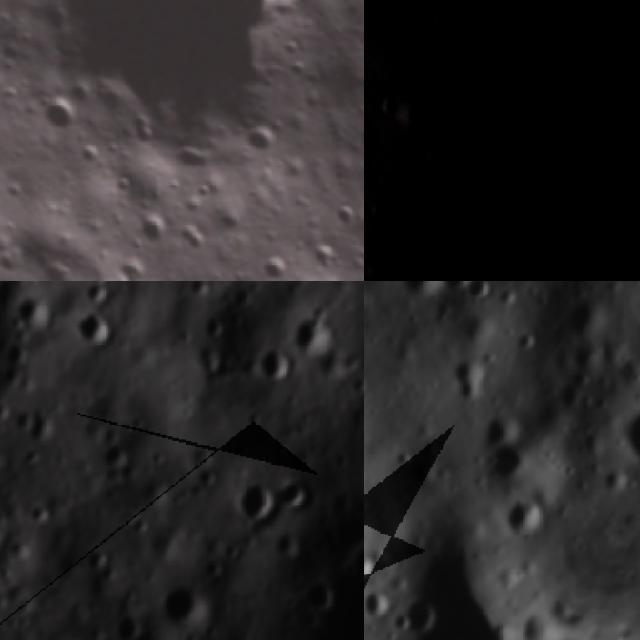crater: (0, 0, 343, 176), (364, 531, 563, 640), (431, 342, 507, 418), (470, 425, 540, 499), (384, 581, 459, 640), (555, 286, 618, 352), (33, 87, 94, 155), (496, 488, 554, 552), (605, 374, 640, 476), (502, 40, 554, 102), (386, 82, 438, 143), (386, 281, 463, 320), (507, 592, 567, 640), (156, 582, 210, 634), (561, 333, 615, 385), (132, 207, 184, 256), (288, 304, 333, 358), (364, 577, 403, 639), (429, 0, 483, 42), (234, 474, 278, 525), (298, 566, 340, 619), (13, 289, 54, 341), (240, 121, 286, 167), (561, 16, 608, 61), (274, 472, 318, 518), (504, 317, 549, 361), (543, 372, 587, 417), (72, 307, 115, 352), (427, 281, 490, 311), (322, 196, 364, 240), (94, 438, 134, 482), (253, 245, 299, 281), (255, 342, 292, 384), (364, 281, 386, 350), (388, 439, 424, 478), (79, 281, 116, 310), (109, 609, 143, 640), (364, 546, 385, 595), (386, 0, 411, 14)
